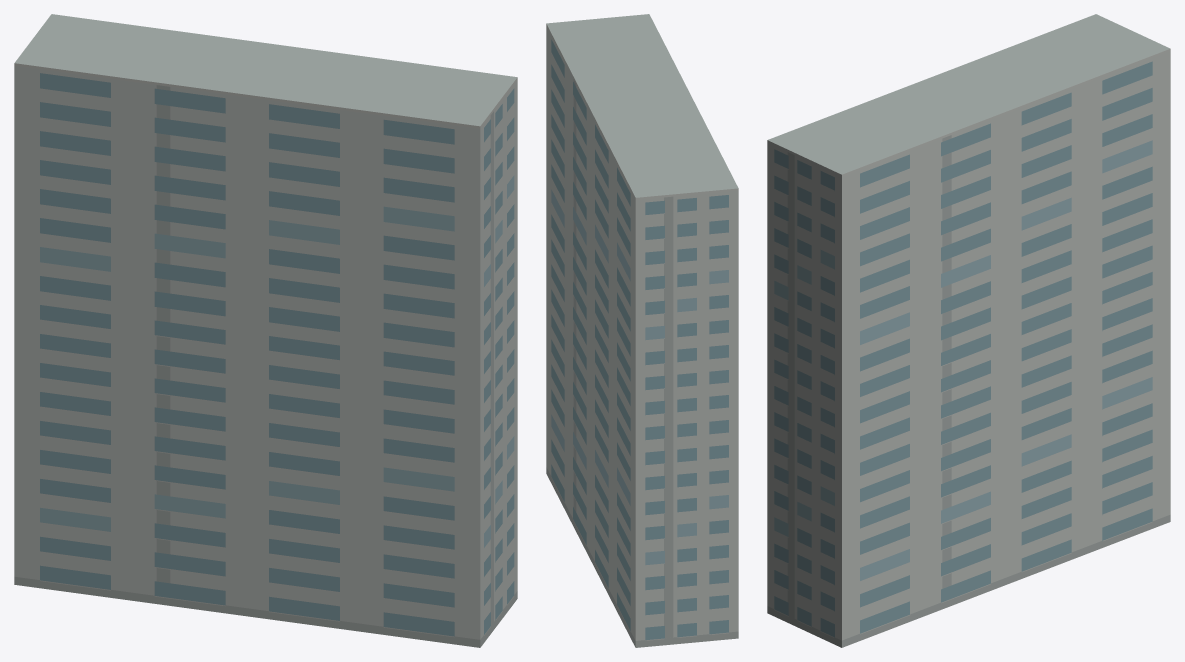
File: residential-40d1a8af-d142-4b42-bdb4-5dc15a8afa9b.glb
3 views of the same model, side by side, from view 1: azimuth 30°, elevation 25°; view 2: azimuth 150°, elevation 25°; view 3: azimuth 270°, elevation 25° (orthographic). The views are drawn at different scales.
Visible parts, largest first — view 1: residential-40d1a8af-d142-4b42-bdb4-5dc15a8afa9b.tmp; view 2: residential-40d1a8af-d142-4b42-bdb4-5dc15a8afa9b.tmp; view 3: residential-40d1a8af-d142-4b42-bdb4-5dc15a8afa9b.tmp.
Boxes of the visible parts, x1,y1,x2,y2 form: residential-40d1a8af-d142-4b42-bdb4-5dc15a8afa9b.tmp: (14,14,517,647); residential-40d1a8af-d142-4b42-bdb4-5dc15a8afa9b.tmp: (546,14,738,647); residential-40d1a8af-d142-4b42-bdb4-5dc15a8afa9b.tmp: (767,14,1170,647).
Size of the model in its own units: 35.7 by 49 by 37.86.
